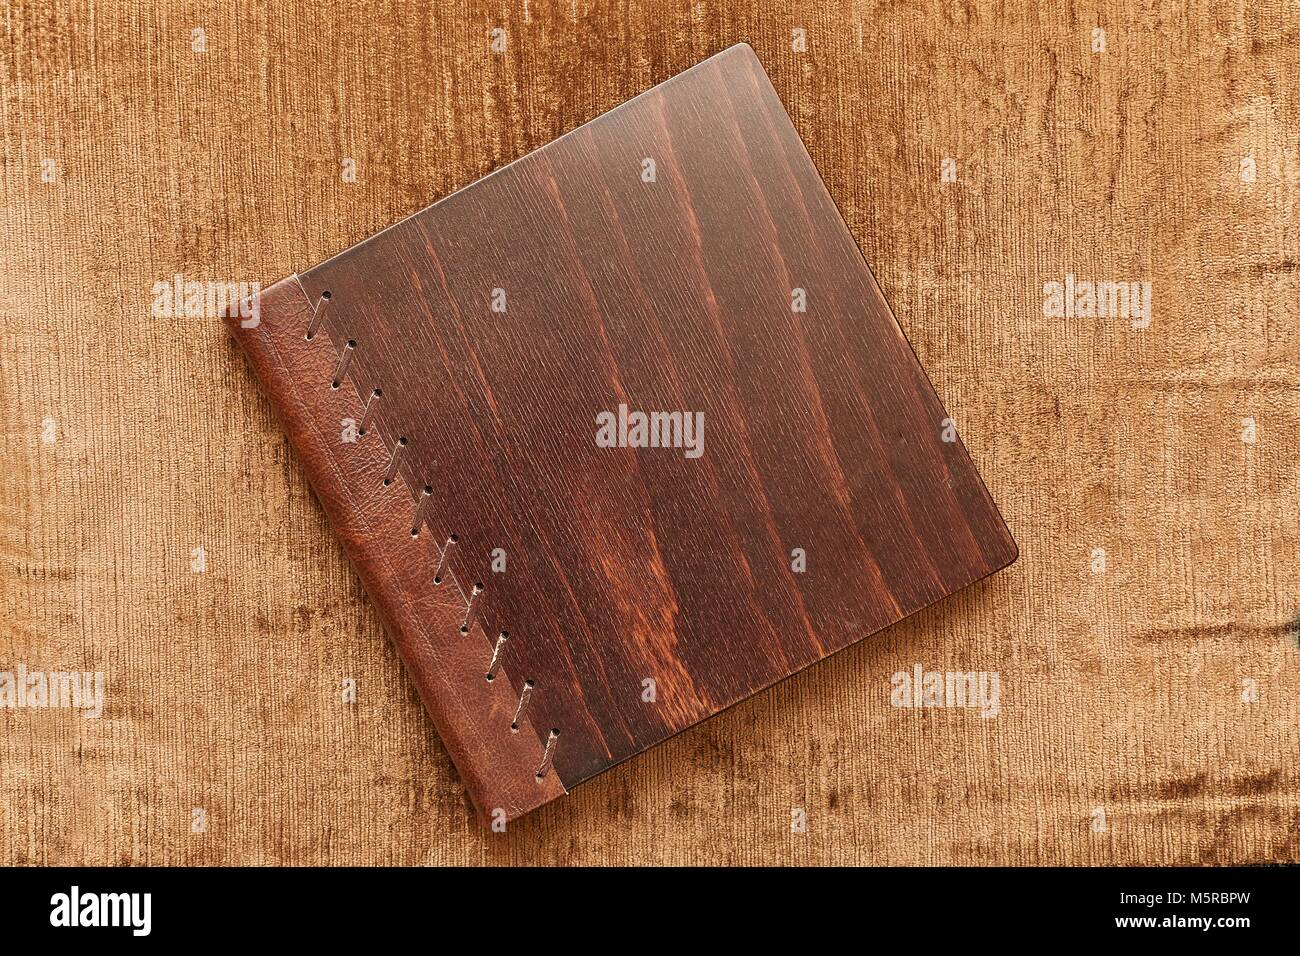book: (162, 18, 1118, 870)
